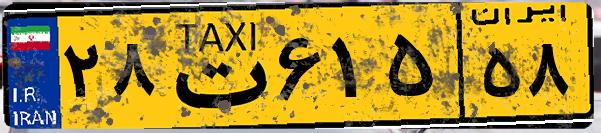1: (330, 28, 385, 110)
2: (57, 26, 110, 100)
5: (385, 28, 445, 110), (475, 38, 525, 113)
6: (270, 28, 330, 110)
8: (525, 38, 570, 115), (110, 28, 158, 98)
ت: (158, 12, 270, 120)
